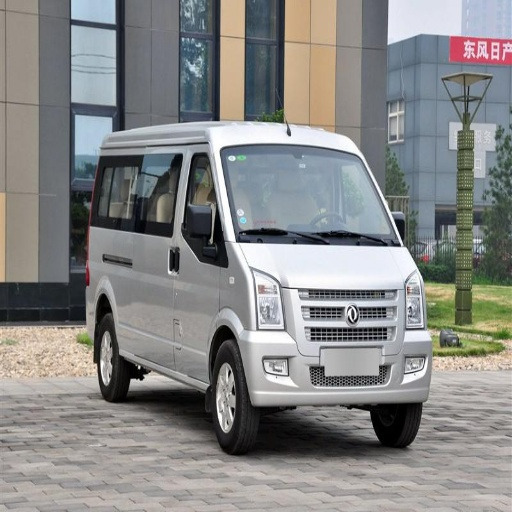front_bumper: (240, 287, 432, 408)
front_right_door: (155, 149, 226, 376)
front_right_light: (254, 275, 286, 330)
hood: (242, 244, 413, 289)
